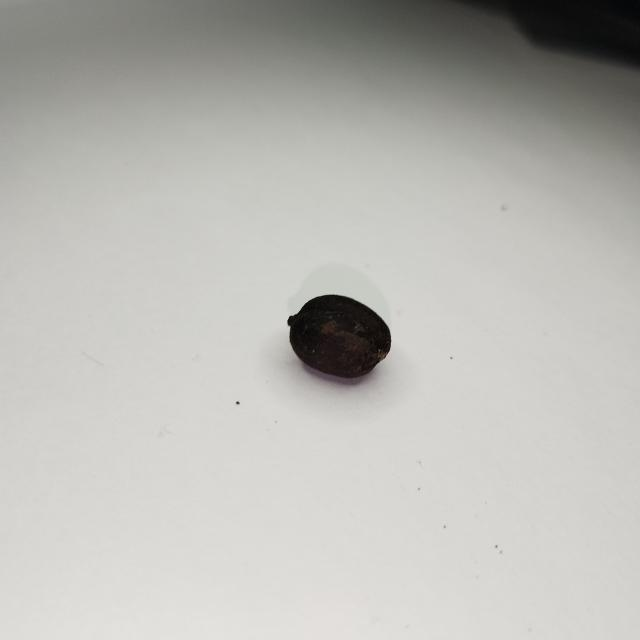Danado: (288, 294, 390, 378)
